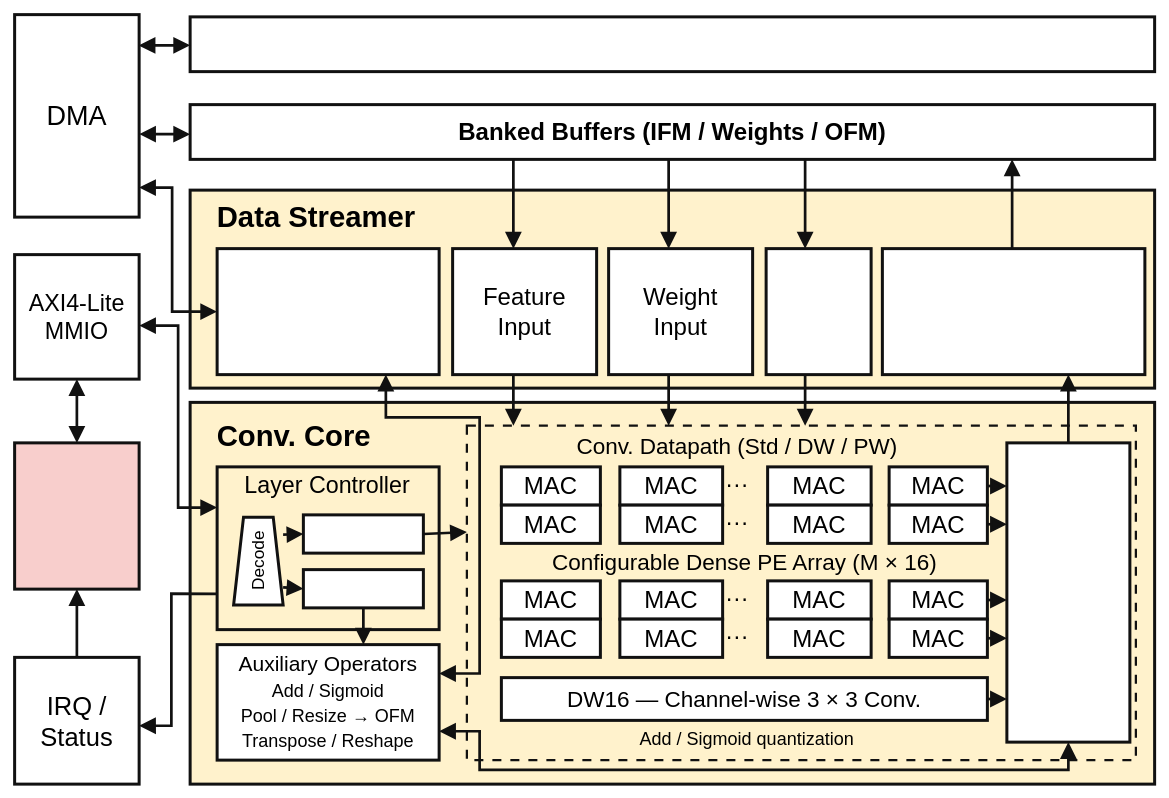
Image size: 1169x798. Some labels were removed from this diagram. Here are the shapes that lost their labels. From the top down, the centre of each, then its label:
(x=672, y=44): AXI4 / Shared External Memory
(x=327, y=311): Vector DMA Read / Write
(x=818, y=311): Bias / Multiplier / Shift
(x=1013, y=311): Feature Output Row Buffer
(x=76, y=515): TriHaRiscv CPU
(x=363, y=533): Dense / DW
(x=363, y=588): Auxiliary
(x=1068, y=592): Shared Q Bias Act. Requant.
